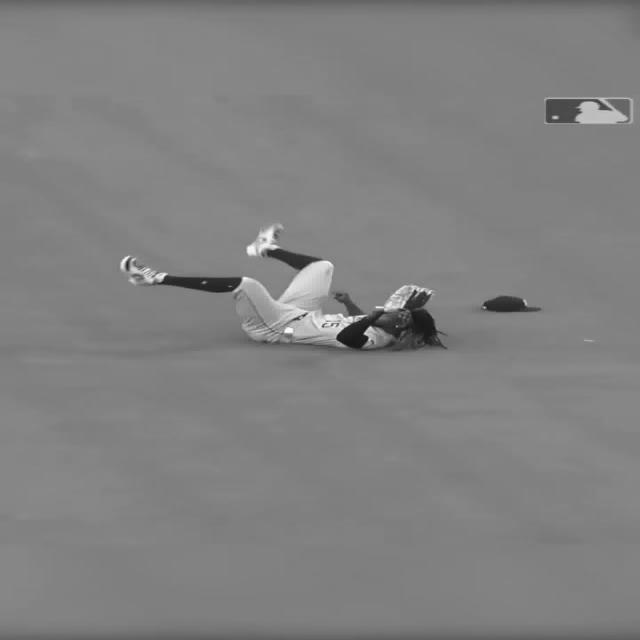baseball_glove: (379, 285, 434, 313)
shoe: (116, 252, 172, 286), (241, 224, 290, 258)
